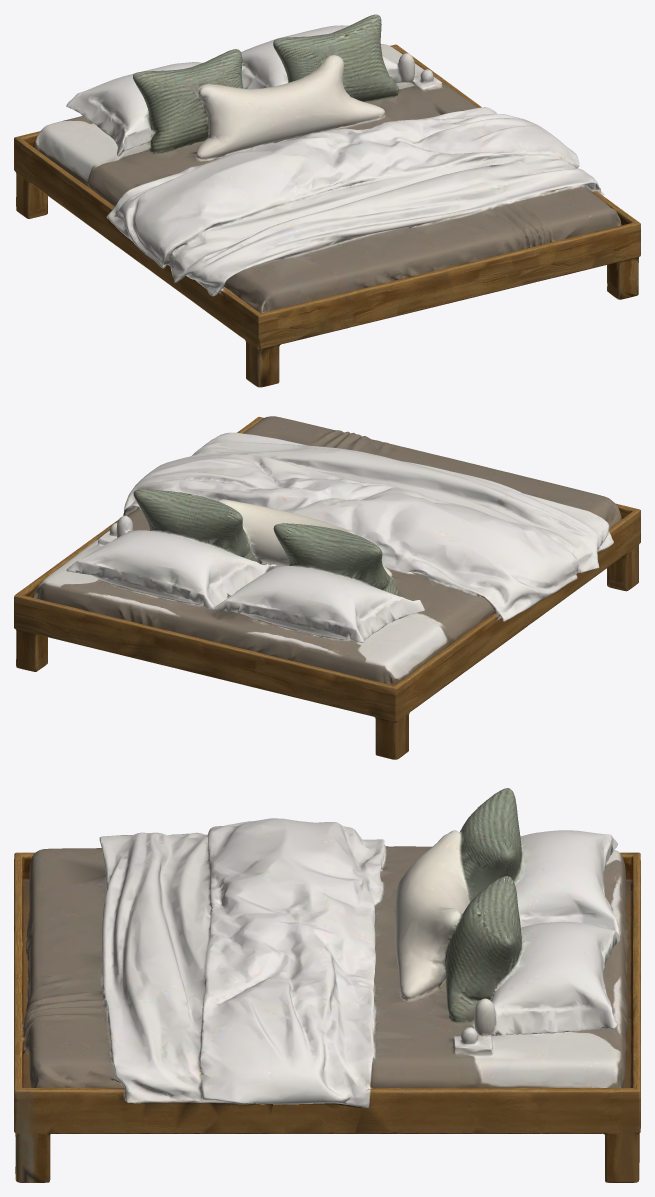
The model's file is doppelbett.glb.
The picture shows the model from 3 angles, top to bottom: view 1: azimuth 30°, elevation 25°; view 2: azimuth 150°, elevation 25°; view 3: azimuth 270°, elevation 25°; orthographic projection. The views are drawn at different scales.
Visible parts, largest first — view 1: mesh_node; view 2: mesh_node; view 3: mesh_node.
Part boxes in pixels (<box>): mesh_node: <box>14,14,640,387</box>; mesh_node: <box>14,416,640,759</box>; mesh_node: <box>14,788,640,1182</box>.
Bounding box in the file's own units: 1.9 × 0.6736 × 1.9.
Materials: 1 (1 with a texture image).
